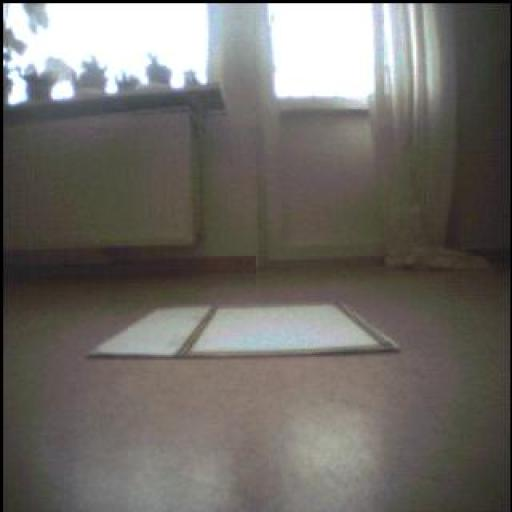Pad: (90, 305, 402, 356)
